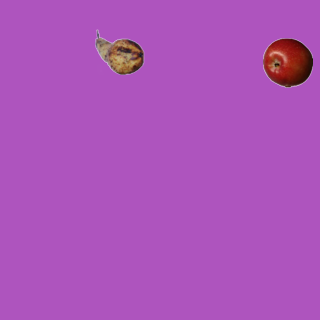Apple Braeburn: (262, 37, 312, 87)
Pear Abate: (94, 27, 144, 77)
